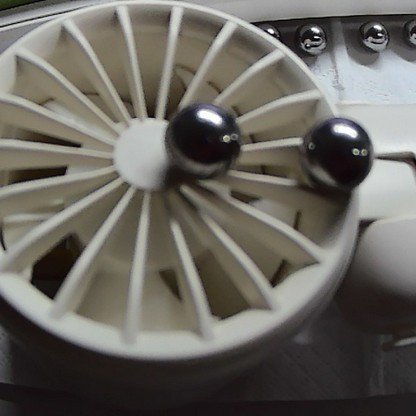ironball: (301, 116, 375, 189), (160, 101, 230, 172), (294, 11, 334, 61), (353, 12, 394, 54), (252, 13, 285, 60), (401, 17, 414, 51)
